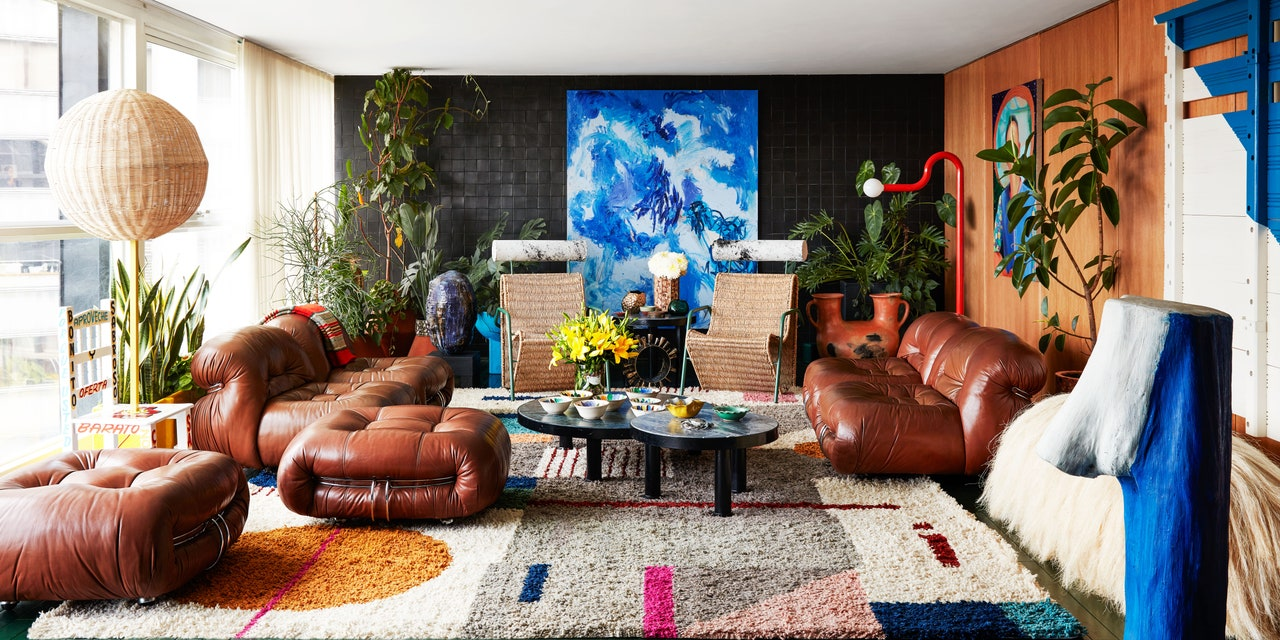biru: (1130, 323, 1232, 633)
coklat: (1, 452, 248, 584), (808, 315, 1004, 462), (203, 326, 436, 444), (284, 404, 508, 515)
hijau: (715, 404, 749, 424)
